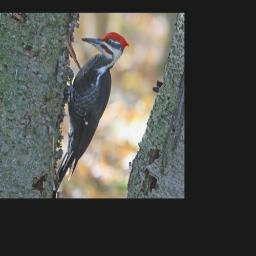Woodpecker: (53, 31, 130, 197)
